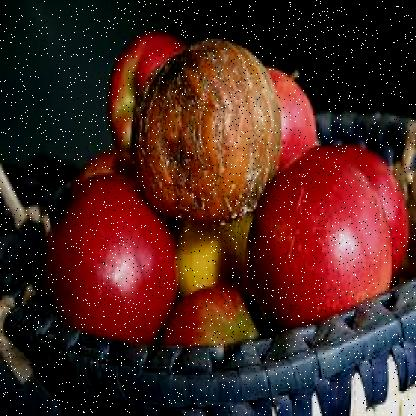apple: (266, 154, 386, 332), (54, 175, 164, 341)
damaged_apple: (133, 46, 278, 214)
